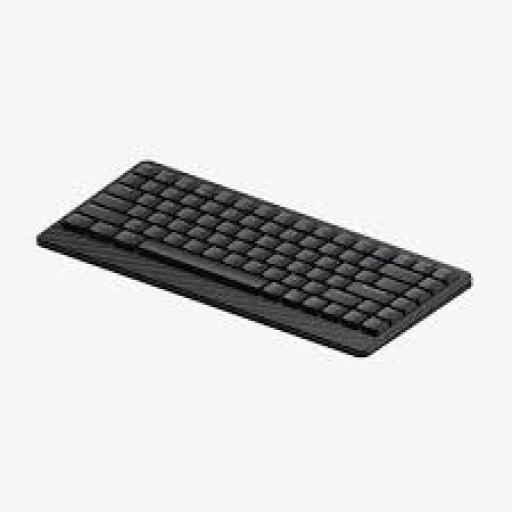keyboard: (39, 162, 469, 353)
